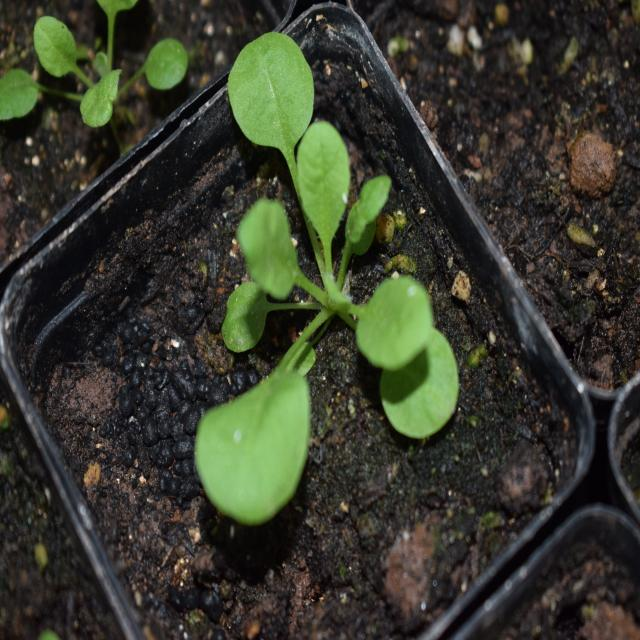Shepherd_Purse: (202, 23, 452, 514)
